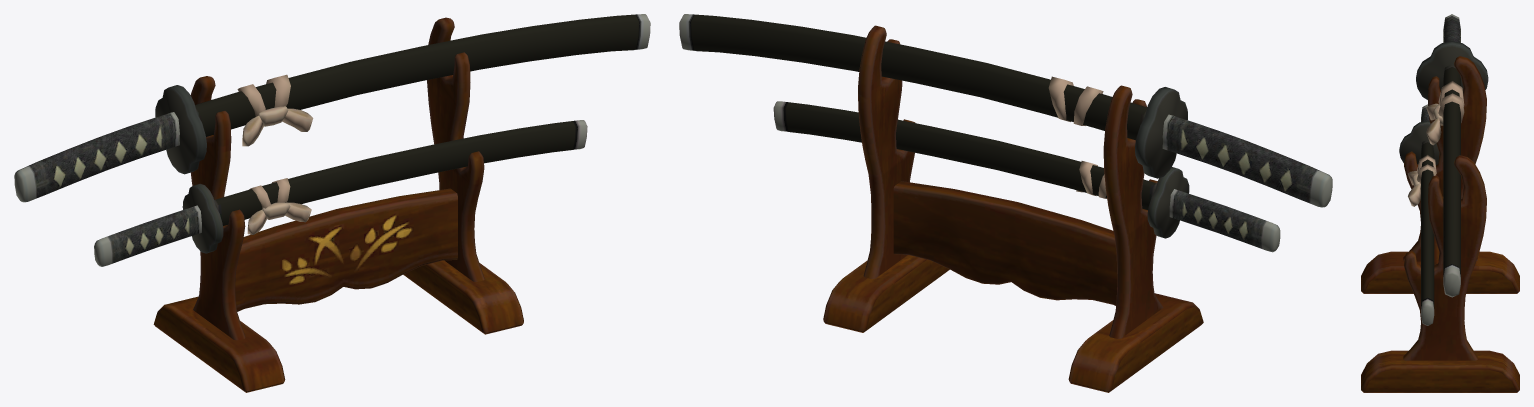
Rendered from weapon-sword.glb.
3 views of the same model, side by side, from view 1: azimuth 30°, elevation 25°; view 2: azimuth 150°, elevation 25°; view 3: azimuth 270°, elevation 25° (orthographic). The views are drawn at different scales.
Visible parts, largest first — view 1: Scene; view 2: Scene; view 3: Scene.
Part boxes in pixels (box(x1,y1,x2,y2)): Scene: box(14, 14, 650, 392); Scene: box(679, 14, 1332, 392); Scene: box(1361, 14, 1519, 392).
Bounding box in the file's own units: 16.03 × 6.57 × 4.11.
1 material, 1 textured.
